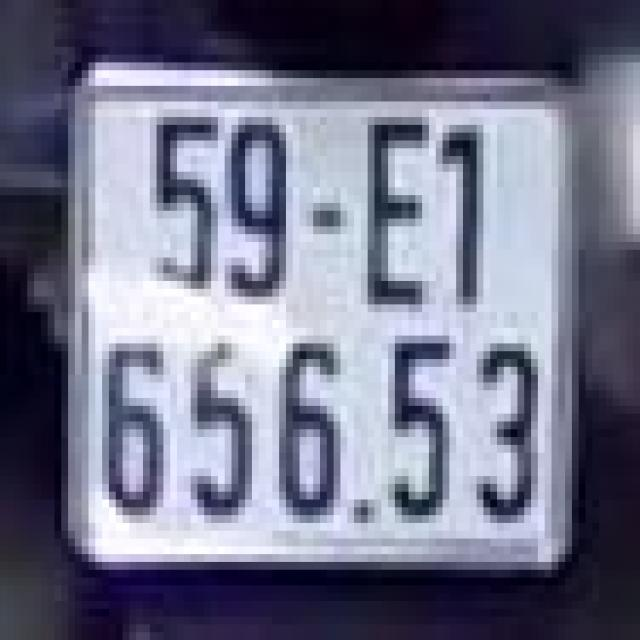1: (436, 113, 497, 324)
3: (466, 336, 548, 530)
5: (381, 328, 463, 523), (143, 94, 218, 288), (188, 324, 255, 527)
6: (96, 324, 170, 519), (266, 328, 340, 523)
9: (218, 109, 299, 312)
E: (358, 113, 432, 316)
